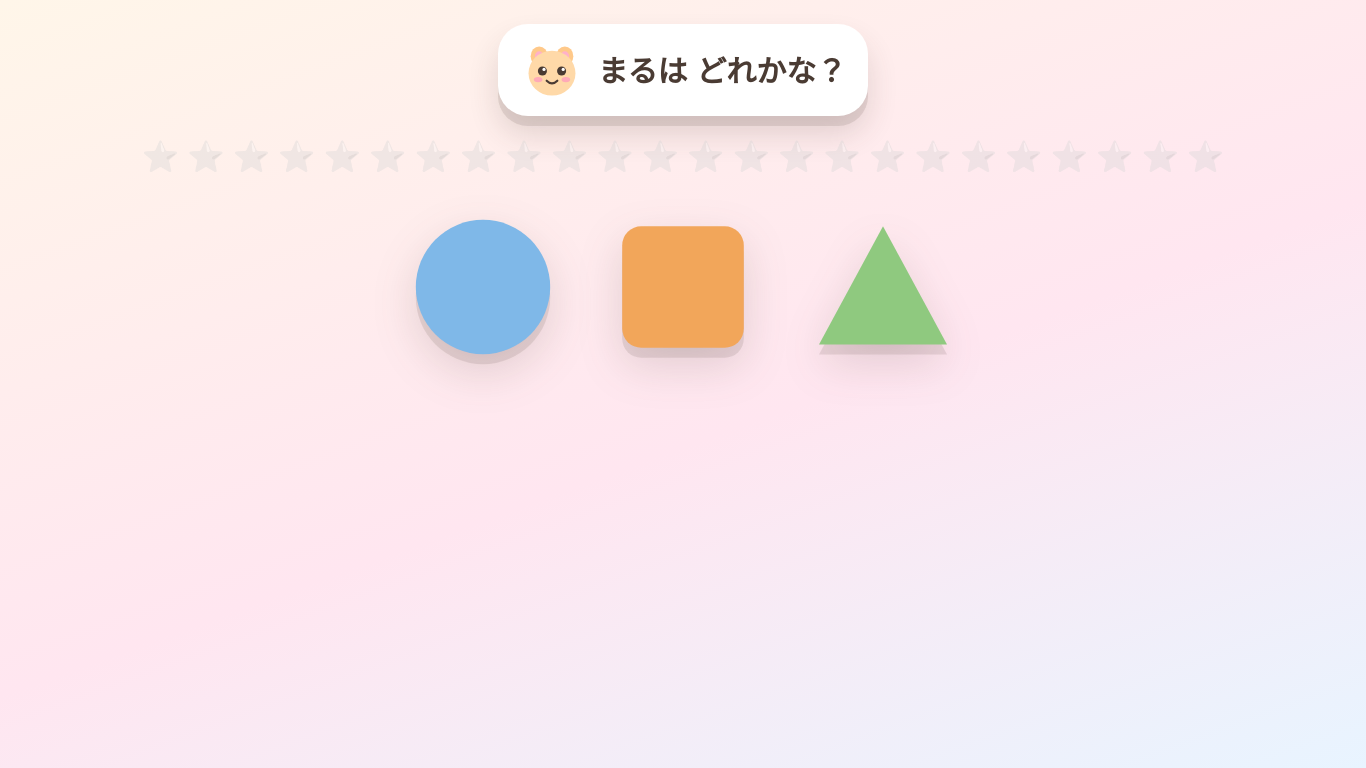
QuizEngine › shape の Lesson でも図形を描画して進行できる
Click the button named "まる": click(483, 287) [403,207,563,367]
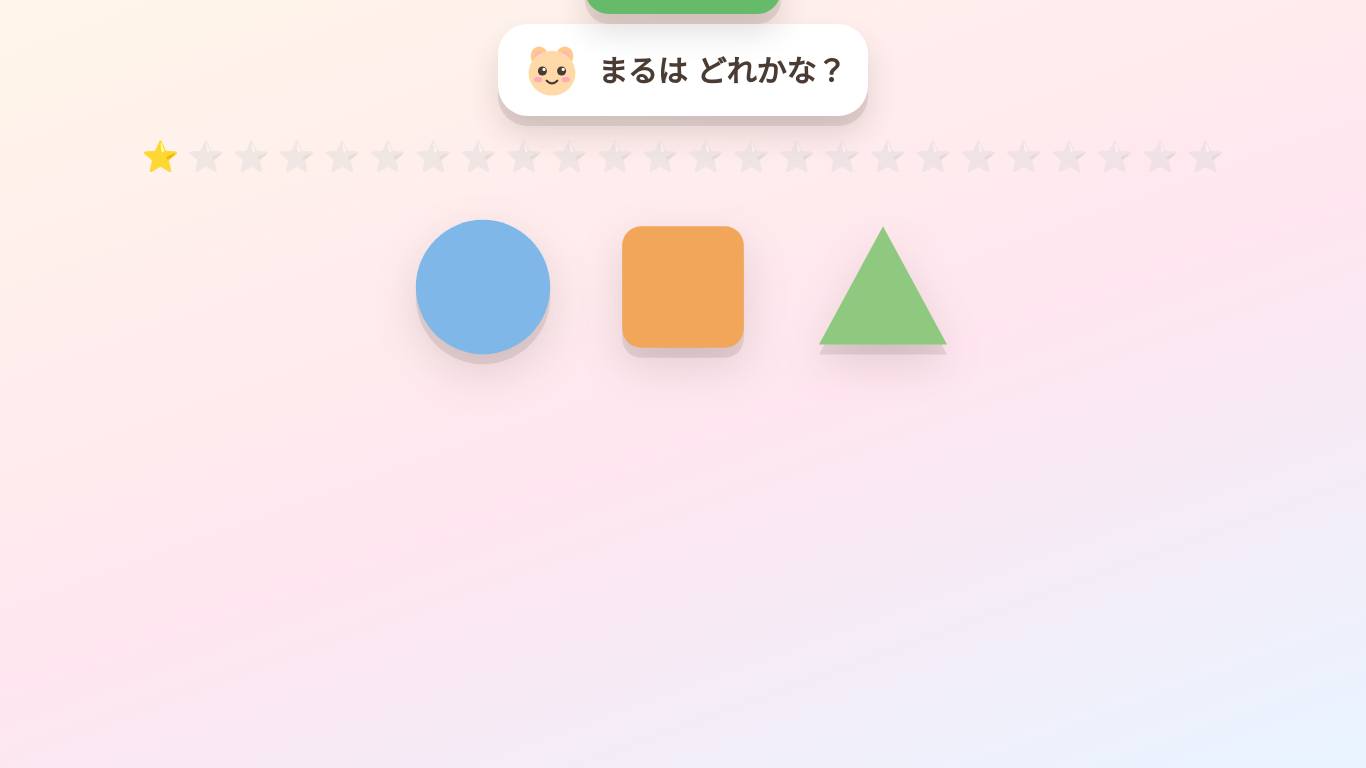
Now the picture named "ほし 1" is shown, box [142,134,1224,179]
